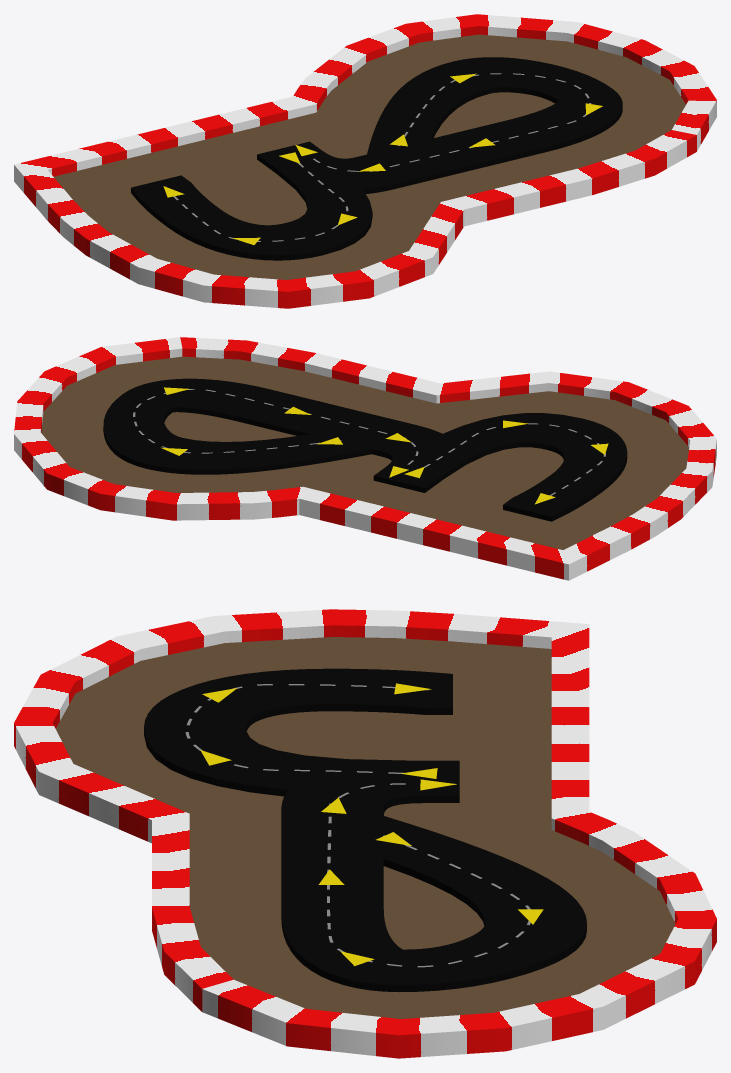
Rendered from sad.FBX.
3 views of the same model, one above another, from view 1: azimuth 30°, elevation 25°; view 2: azimuth 150°, elevation 25°; view 3: azimuth 270°, elevation 25° (orthographic). The views are drawn at different scales.
Visible parts, largest first — view 1: sad_floor, sad_coll, sad; view 2: sad_floor, sad_coll, sad, Line0; view 3: sad_floor, sad_coll, sad, Line0.
Part boxes in pixels (x1,y1,x2,y2): sad_floor: (53, 34, 685, 279); sad_coll: (14, 14, 716, 308); sad: (131, 57, 622, 260); sad_floor: (41, 356, 689, 549); sad_coll: (14, 337, 716, 580); sad: (103, 378, 627, 521); Line0: (133, 389, 418, 464); sad_floor: (56, 637, 675, 1018); sad_coll: (14, 609, 716, 1058); sad: (144, 668, 586, 992); Line0: (327, 783, 530, 967).
Bounding box in the file's own units: 1285 × 32.76 × 896.
